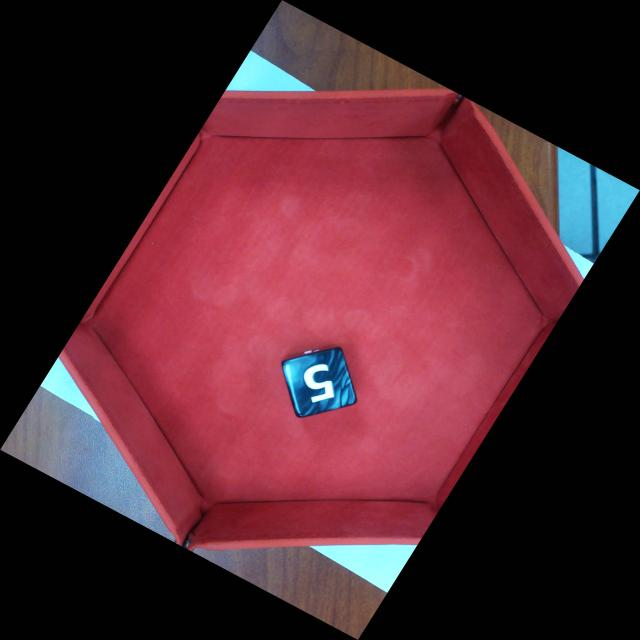dice: (283, 349, 357, 417)
